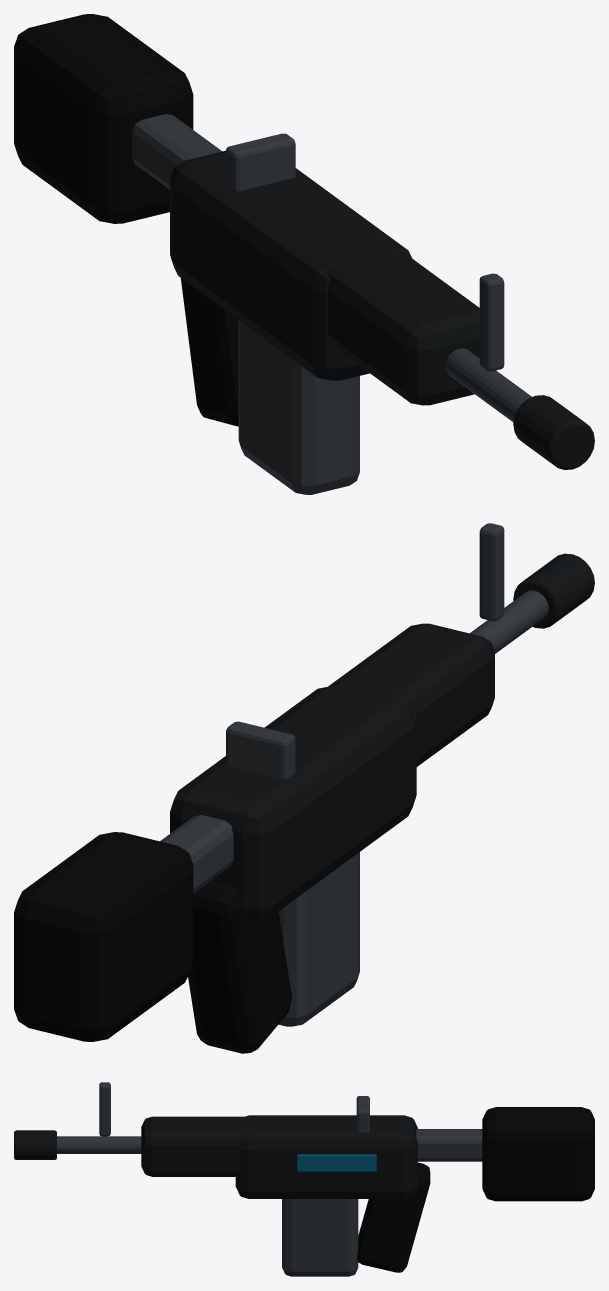
3 views of the same model, one above another, from view 1: azimuth 30°, elevation 25°; view 2: azimuth 150°, elevation 25°; view 3: azimuth 270°, elevation 25° (orthographic). The views are drawn at different scales.
Visible parts, largest first — view 1: Receiver.001_0, Adjustable_stock_0, Upper_handguard.001_0, Magazine.001_0, Pistol_grip.001_0, Muzzle_brake.001_0, Buffer_tube_0, Rear_sight.001_0, Barrel.001_0, Front_sight.001_0; view 2: Receiver.001_0, Adjustable_stock_0, Pistol_grip.001_0, Upper_handguard.001_0, Magazine.001_0, Muzzle_brake.001_0, Rear_sight.001_0, Buffer_tube_0, Front_sight.001_0, Barrel.001_0; view 3: Receiver.001_0, Adjustable_stock_0, Upper_handguard.001_0, Magazine.001_0, Pistol_grip.001_0, Buffer_tube_0, Barrel.001_0, Aurora_serial_plate.001_0, Muzzle_brake.001_0, Front_sight.001_0, Rear_sight.001_0.
Part boxes in pixels (x1,y1,x2,y2): Receiver.001_0: (170, 150, 412, 380); Adjustable_stock_0: (14, 14, 193, 223); Upper_handguard.001_0: (327, 244, 479, 405); Magazine.001_0: (238, 320, 359, 494); Pistol_grip.001_0: (180, 278, 238, 426); Muzzle_brake.001_0: (513, 395, 594, 469); Buffer_tube_0: (132, 114, 222, 189); Rear_sight.001_0: (226, 133, 295, 191); Barrel.001_0: (445, 348, 531, 422); Front_sight.001_0: (479, 273, 504, 371); Receiver.001_0: (170, 686, 416, 920); Adjustable_stock_0: (14, 832, 193, 1041); Pistol_grip.001_0: (188, 881, 291, 1053); Upper_handguard.001_0: (328, 623, 494, 766); Magazine.001_0: (278, 852, 359, 1026); Muzzle_brake.001_0: (513, 553, 594, 628); Rear_sight.001_0: (226, 721, 295, 779); Buffer_tube_0: (160, 815, 233, 893); Front_sight.001_0: (479, 523, 504, 621); Barrel.001_0: (470, 590, 548, 653); Receiver.001_0: (235, 1115, 417, 1198); Adjustable_stock_0: (482, 1107, 594, 1201); Upper_handguard.001_0: (141, 1116, 256, 1176); Magazine.001_0: (282, 1199, 358, 1276); Pistol_grip.001_0: (357, 1162, 430, 1272); Buffer_tube_0: (416, 1129, 482, 1161); Barrel.001_0: (57, 1136, 141, 1153); Aurora_serial_plate.001_0: (297, 1154, 376, 1171); Muzzle_brake.001_0: (14, 1130, 56, 1159); Front_sight.001_0: (99, 1082, 110, 1136); Rear_sight.001_0: (356, 1096, 369, 1132).
Size of the model in its own units: 0.212 by 0.625 by 1.75.
